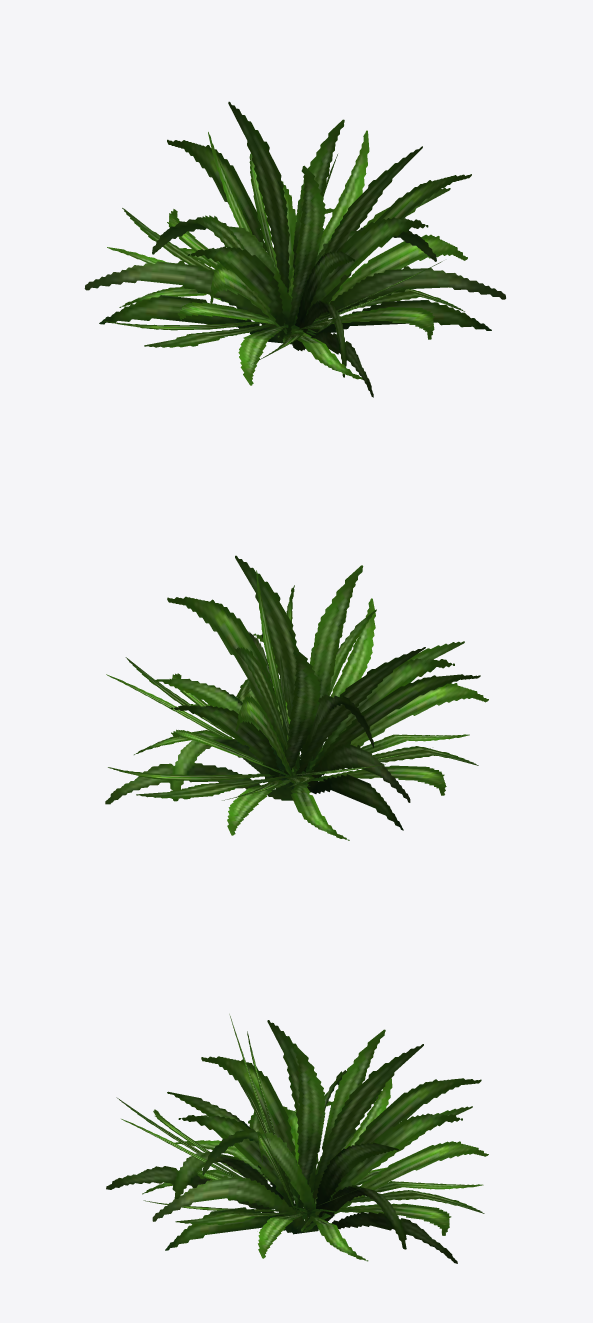
File: grass05_model.dae
3 views of the same model, one above another, from view 1: azimuth 30°, elevation 25°; view 2: azimuth 150°, elevation 25°; view 3: azimuth 270°, elevation 25° (orthographic). The views are drawn at different scales.
Visible parts, largest first — view 1: node-0E7938E5; view 2: node-0E7938E5; view 3: node-0E7938E5.
Boxes of the visible parts, box(x1,y1,x2,y2) form: node-0E7938E5: box(84, 101, 505, 397); node-0E7938E5: box(105, 555, 488, 840); node-0E7938E5: box(106, 1014, 488, 1263).
Bounding box in the file's own units: 163 × 82.87 × 175.
1 material, 1 textured.
